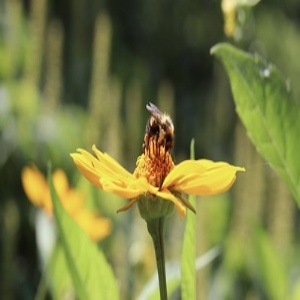bee: (142, 102, 175, 162)
